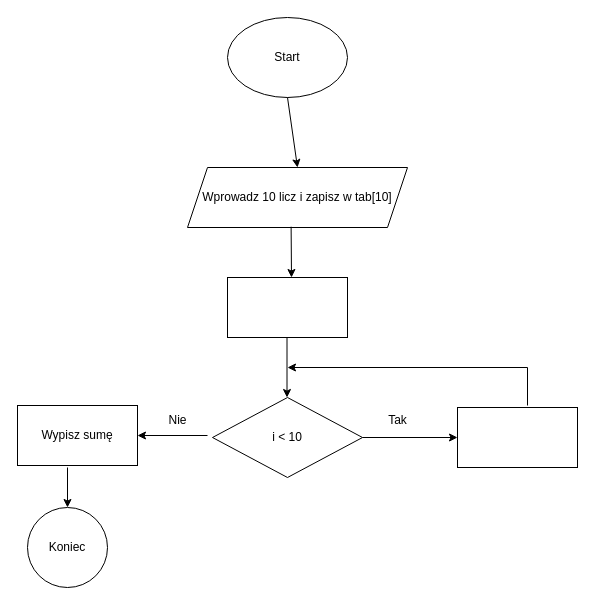
This 595x605 diagram has some shape labels left out. The centre of each missing label's shape, as x and y in pixels:
"i = 0 suma = 0" goes at (287,307).
"sum = sum + tab[i] i++" goes at (517,437).
